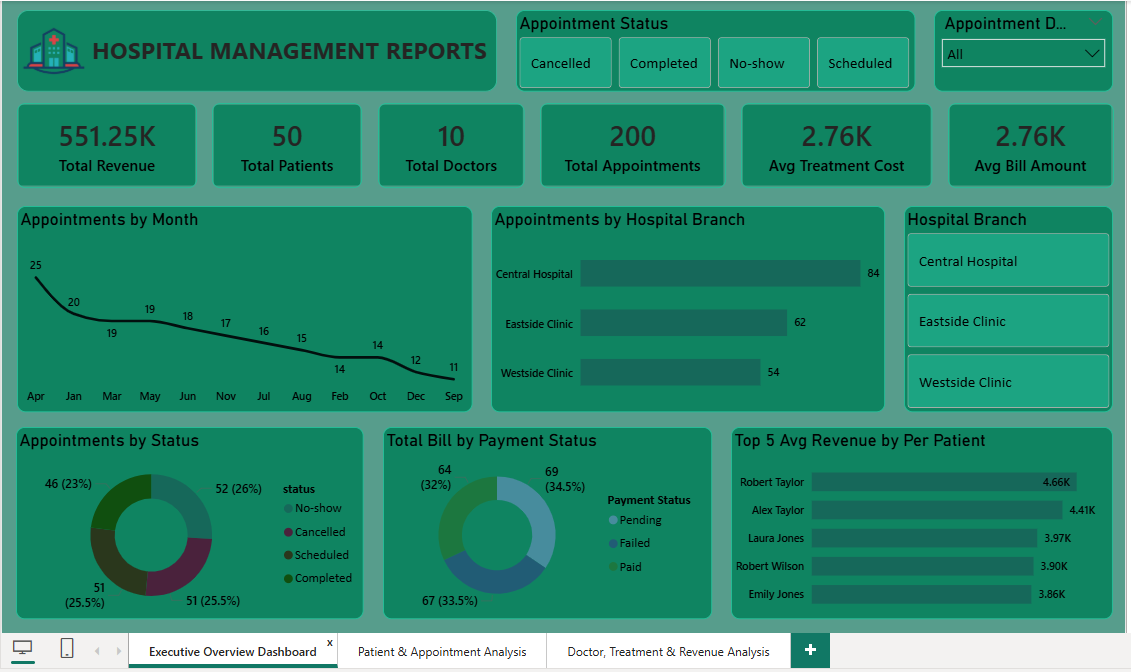

Layout of this report page (visuals, bound fields, positions):
{"tool":"powerbi","page":{"name":"Executive Overview Dashboard","canvas":[1280,720],"ordinal":0},"visuals":[{"type":"shape","box":[16.6,10.2,546.9,93.1],"z":0,"group":"g1"},{"type":"cardVisual","fields":{"Data":["Measures_Table.Total Patients"]},"box":[239.6,116.4,171.3,96.8],"z":0},{"type":"textbox","box":[90.5,31.9,473,49.7],"z":1000,"group":"g1"},{"type":"cardVisual","fields":{"Data":["Measures_Table.Total Doctors"]},"box":[428.1,116.4,167.4,96.8],"z":1000},{"type":"image","box":[16.6,19.1,84.1,75.2],"z":2000,"group":"g1"},{"type":"cardVisual","fields":{"Data":["Measures_Table.Total Appointments"]},"box":[612.7,116,211.6,96.9],"z":2000},{"type":"cardVisual","fields":{"Data":["Measures_Table.Avg Treatment Cost"]},"box":[841.7,116.4,218.3,96.8],"z":3000},{"type":"cardVisual","fields":{"Data":["Measures_Table.Total Revenue"]},"box":[17,116.4,205.3,96.8],"z":4000},{"type":"cardVisual","fields":{"Data":["Measures_Table.Avg Bill Amount"]},"box":[1077.3,116,188.7,96.9],"z":5000},{"type":"lineChart","fields":{"Y":["Measures_Table.Total Appointments"],"Category":["Appointments.Month"]},"box":[16.6,233.3,518.9,234.6],"z":6000},{"type":"donutChart","title":"Appointments by Status","fields":{"Category":["Appointments.status"],"Y":["Measures_Table.Total Appointments"]},"box":[16,485.2,396.1,219.3],"z":7000},{"type":"donutChart","fields":{"Category":["Billing.payment_status"],"Y":["Measures_Table.Total Bill"]},"box":[434,485.2,374.8,219.3],"z":8000},{"type":"clusteredBarChart","fields":{"Category":["Doctors.hospital_branch"],"Y":["Measures_Table.Total Appointments"]},"box":[557.1,233.3,448.8,234.6],"z":9000},{"type":"slicer","title":"Appointment Date","fields":{"Values":["Appointments.appointment_date"]},"box":[1062,10.2,204,93.1],"z":10000},{"type":"group","id":"g1","title":"Group 1","box":[16.6,10.2,546.9,93.1],"z":11000},{"type":"advancedSlicerVisual","title":"Hospital Branch","fields":{"Values":["Doctors.hospital_branch"]},"box":[1027.6,233.3,238.4,234.6],"z":12000},{"type":"advancedSlicerVisual","title":"Appointment Status","fields":{"Values":["Appointments.status"]},"box":[585.2,10.2,455.1,93.1],"z":13000},{"type":"clusteredBarChart","title":"Top 5 Avg Revenue by Per Patient","fields":{"Category":["Patients.Full_Name"],"Y":["Measures_Table.Avg Revenue"]},"box":[830.7,485.2,434.6,219.3],"z":14000}]}

Visuals, with their boxes in screenshot pixels (x1, y1, x2, y2):
shape: pyautogui.locateOnScreen(0, 3, 491, 87)
cardVisual - Measures_Table.Total Patients: pyautogui.locateOnScreen(199, 99, 354, 187)
textbox: pyautogui.locateOnScreen(64, 23, 491, 68)
cardVisual - Measures_Table.Total Doctors: pyautogui.locateOnScreen(369, 99, 520, 187)
image: pyautogui.locateOnScreen(0, 11, 73, 79)
cardVisual - Measures_Table.Total Appointments: pyautogui.locateOnScreen(536, 99, 727, 186)
cardVisual - Measures_Table.Avg Treatment Cost: pyautogui.locateOnScreen(743, 99, 940, 187)
cardVisual - Measures_Table.Total Revenue: pyautogui.locateOnScreen(0, 99, 183, 187)
cardVisual - Measures_Table.Avg Bill Amount: pyautogui.locateOnScreen(956, 99, 1126, 186)
lineChart - Measures_Table.Total Appointments x Appointments.Month: pyautogui.locateOnScreen(0, 205, 466, 417)
"Appointments by Status" donutChart: pyautogui.locateOnScreen(0, 432, 355, 631)
donutChart - Billing.payment_status x Measures_Table.Total Bill: pyautogui.locateOnScreen(374, 432, 713, 631)
clusteredBarChart - Doctors.hospital_branch x Measures_Table.Total Appointments: pyautogui.locateOnScreen(486, 205, 891, 417)
"Appointment Date" slicer: pyautogui.locateOnScreen(942, 3, 1126, 87)
"Group 1" group: pyautogui.locateOnScreen(0, 3, 491, 87)
"Hospital Branch" advancedSlicerVisual: pyautogui.locateOnScreen(911, 205, 1126, 417)
"Appointment Status" advancedSlicerVisual: pyautogui.locateOnScreen(511, 3, 922, 87)
"Top 5 Avg Revenue by Per Patient" clusteredBarChart: pyautogui.locateOnScreen(733, 432, 1125, 631)
